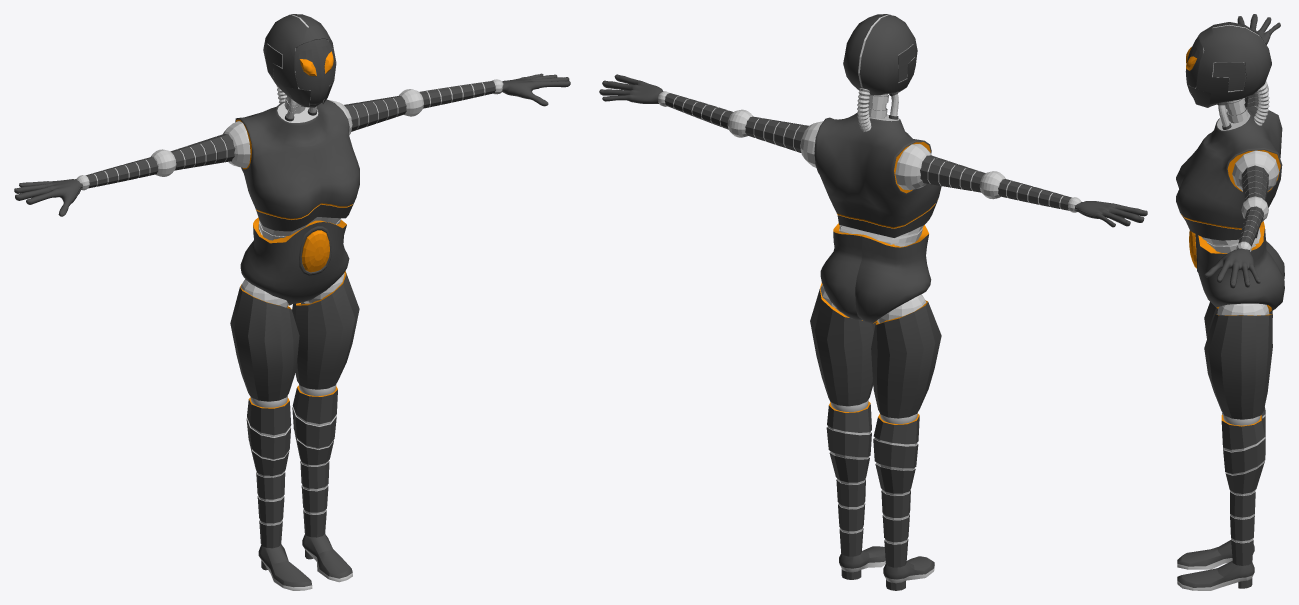
The model's file is robot.obj.
3 views of the same model, side by side, from view 1: azimuth 30°, elevation 25°; view 2: azimuth 150°, elevation 25°; view 3: azimuth 270°, elevation 25° (orthographic).
Parts seen in each view (by area): view 1: polySurface150, polySurface91, polySurface90, polySurface166 polySurface175, polySurface166 polySurface171, pCylinder2, polySurface149, pCylinder18, pCylinder3, pCylinder19, polySurface148, pSphere5; view 2: polySurface150, polySurface91, polySurface90, polySurface166 polySurface175, pCylinder2, pCylinder18, polySurface148, pCylinder3, polySurface149, pSphere5, pCylinder19; view 3: polySurface90, polySurface150, polySurface166 polySurface175, polySurface91, polySurface148, pSphere1, pCylinder18, pCylinder19, polySurface166 polySurface171, polySurface166 polySurface170, polySurface149, polySurface166 polySurface179 (+4 smaller).
Part boxes in pixels (x1,y1,x2,y2): polySurface150: (235, 99, 359, 305); polySurface91: (230, 279, 312, 590); polySurface90: (292, 271, 359, 582); polySurface166 polySurface175: (263, 14, 336, 100); polySurface166 polySurface171: (295, 39, 335, 104); pCylinder2: (170, 134, 235, 170); polySurface149: (14, 179, 82, 216); pCylinder18: (344, 96, 406, 131); pCylinder3: (85, 157, 158, 188); pCylinder19: (419, 81, 495, 108); polySurface148: (501, 73, 570, 106); pSphere5: (223, 121, 250, 167); polySurface150: (814, 113, 941, 323); polySurface91: (871, 294, 941, 590); polySurface90: (810, 282, 885, 579); polySurface166 polySurface175: (843, 14, 917, 95); pCylinder2: (920, 155, 985, 192); pCylinder18: (745, 116, 808, 152); polySurface148: (599, 74, 663, 103); pCylinder3: (998, 179, 1071, 210); polySurface149: (1074, 201, 1147, 227); pSphere5: (895, 144, 931, 190); pCylinder19: (664, 93, 732, 129); polySurface90: (1177, 303, 1272, 590); polySurface150: (1176, 106, 1284, 312); polySurface166 polySurface175: (1196, 22, 1271, 104); polySurface91: (1177, 302, 1272, 569); polySurface148: (1204, 248, 1260, 288); pSphere1: (1232, 150, 1279, 191); pCylinder18: (1241, 165, 1268, 200); pCylinder19: (1238, 206, 1263, 246); polySurface166 polySurface171: (1185, 36, 1204, 96); polySurface166 polySurface170: (1225, 98, 1248, 123); polySurface149: (1237, 14, 1280, 44); polySurface166 polySurface179: (1254, 84, 1269, 125).
Size of the model in its own units: 21.33 by 20.62 by 3.71.
